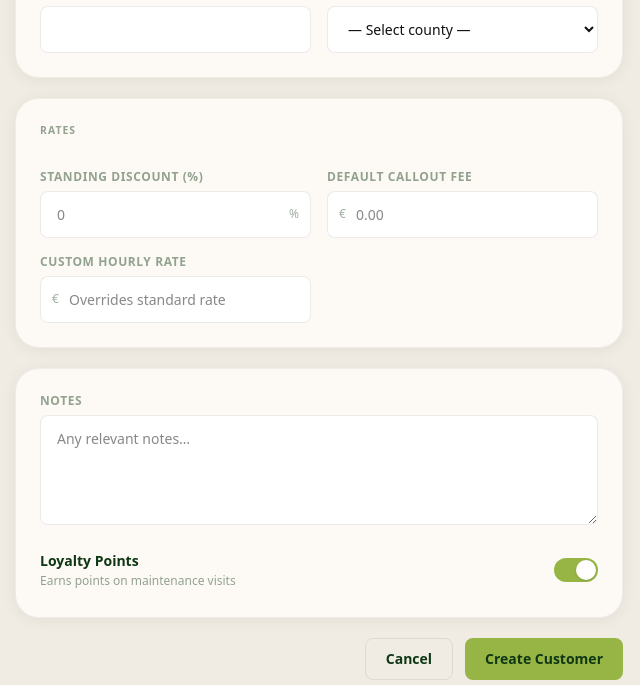
Test: CustomerForm — Add mode › requires name — shows error on submit
(page scrolled)
Click the button "Create Customer": (544, 659) left=465, top=638, right=623, bottom=680
(page scrolled)
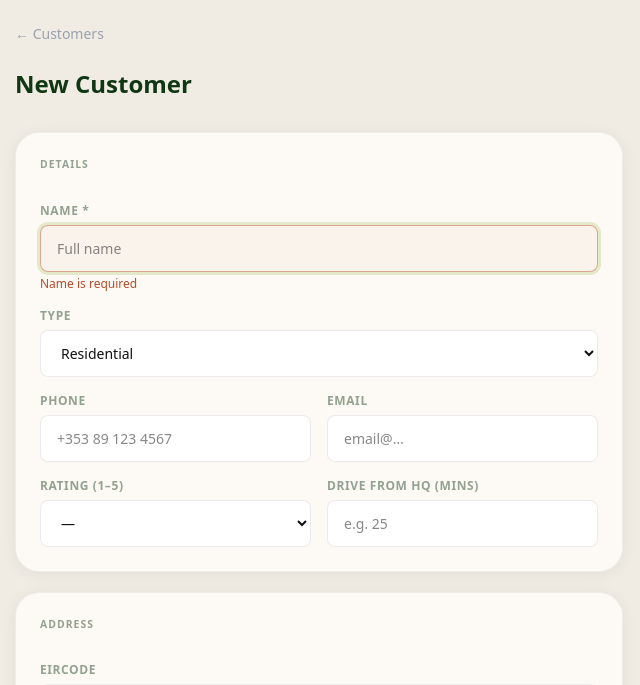
Expected: the text "Name is required" is shown, left=40, top=275, right=137, bottom=292
